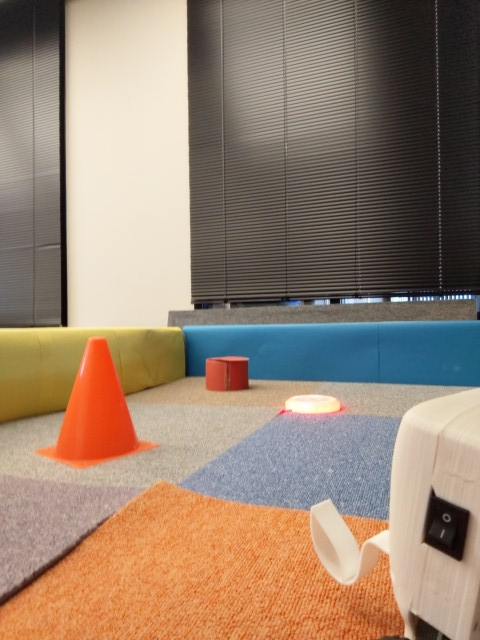br: (315, 385, 480, 640)
r: (284, 386, 341, 420)
